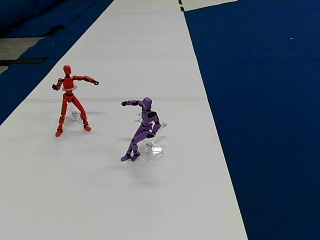pedestrian: (51, 65, 97, 135), (121, 96, 161, 161)
